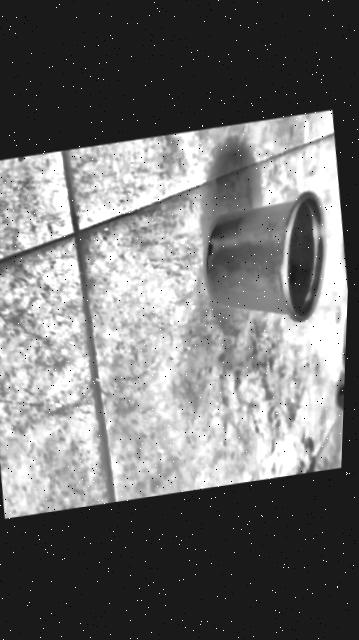pot: (194, 190, 336, 335)
